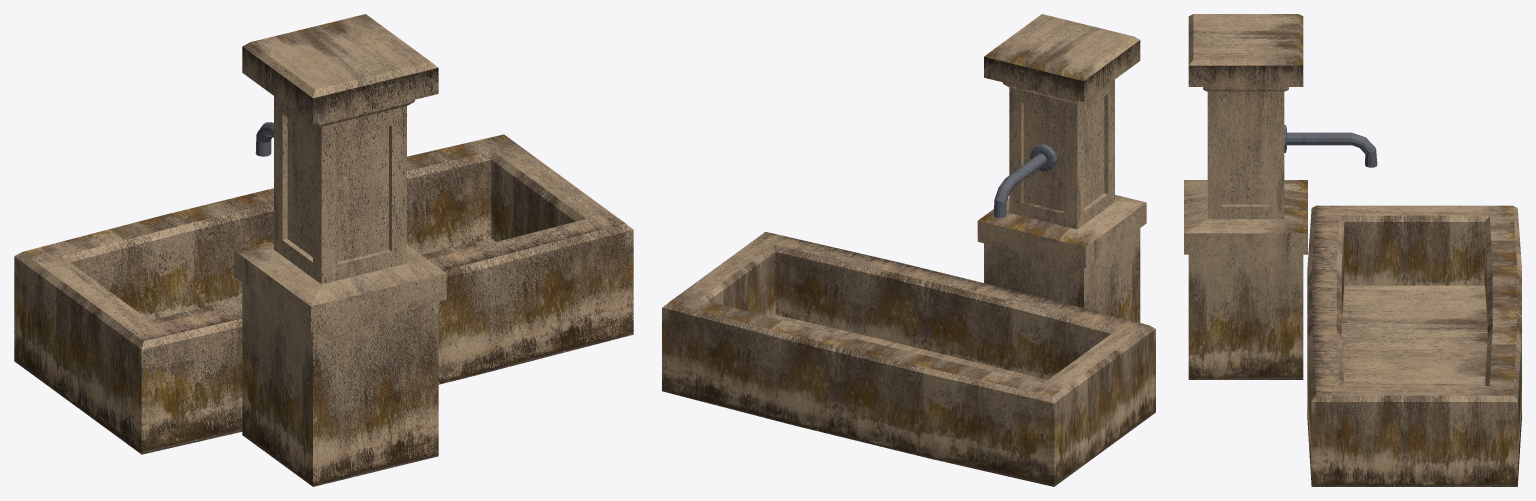
Rendered from f1_well01.dae.
3 views of the same model, side by side, from view 1: azimuth 30°, elevation 25°; view 2: azimuth 150°, elevation 25°; view 3: azimuth 270°, elevation 25° (orthographic). The views are drawn at different scales.
Parts seen in each view (by area): view 1: f1_well01_Layer1; view 2: f1_well01_Layer1; view 3: f1_well01_Layer1.
Part boxes in pixels (<box>): f1_well01_Layer1: <box>14,14,633,486</box>; f1_well01_Layer1: <box>662,14,1155,486</box>; f1_well01_Layer1: <box>1184,14,1521,486</box>.
Size of the model in its own units: 2.89 by 2.21 by 2.13.
